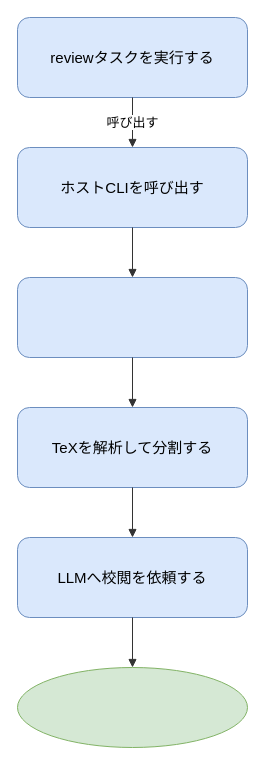
The diagram is 265 pixels wide and 765 high, and some of its shapes have lost their labels. Here are the shapes that lost their labels. From the top down, the centre of each, then its label:
At [132,317]: "コンテナを起動する".
At [132,707]: "校閲レポートを保存する".
